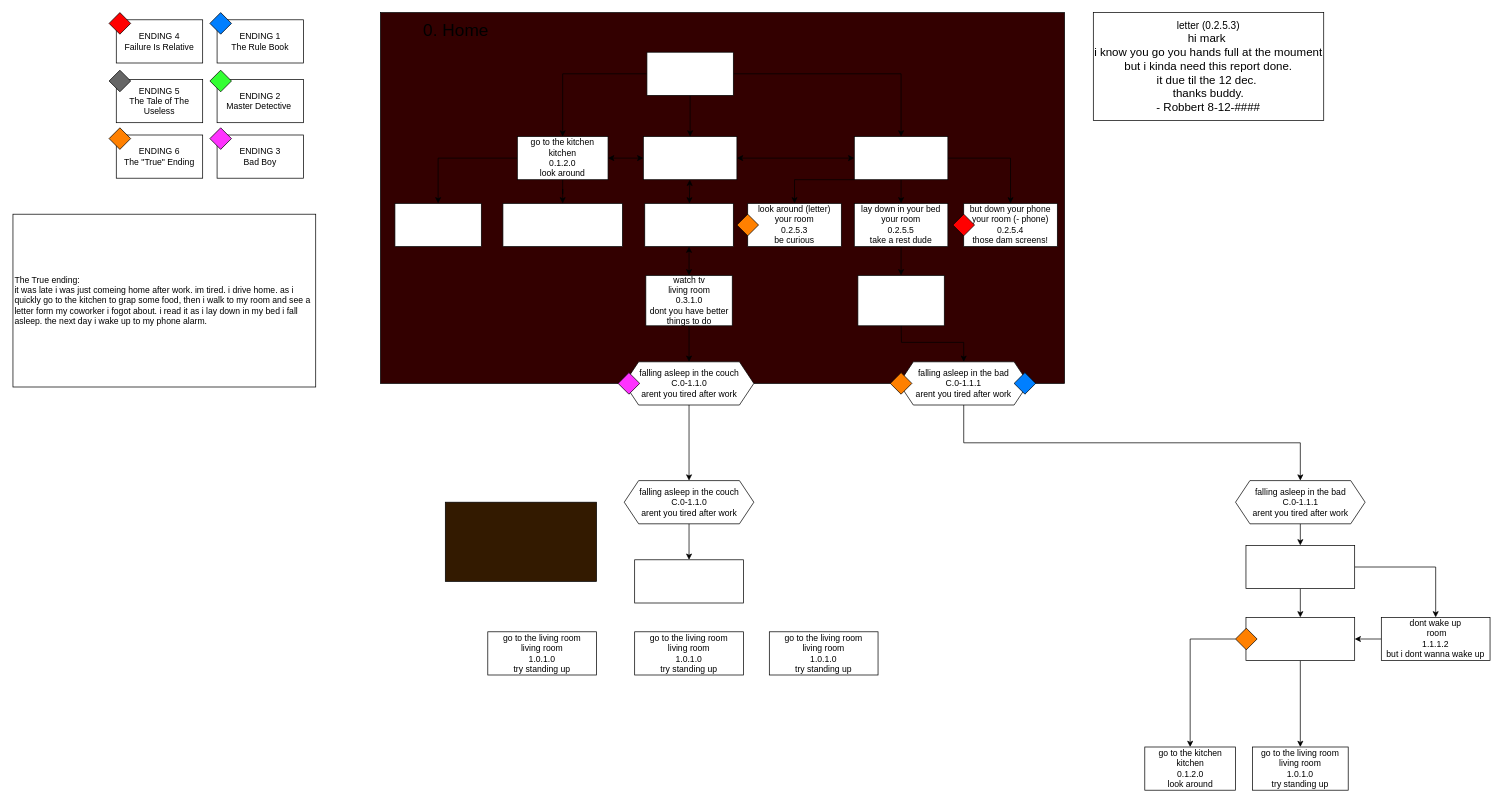
The diagram is 1503 pixels wide and 803 high, and some of its shapes have lost their labels. Each missing label, with the box of its shape:
1. The Office: (445, 501, 597, 581)
continue Home 0.0.0.0 try starting the game!: (646, 51, 733, 95)
do to sleep living room 0.3.1.1 arent you tired: (857, 275, 944, 326)
get up of the couch living room 1.0.1.0 try finding a diffrent to sleep: (634, 559, 743, 603)
go to the living room living room 0.1.2.1 look around: (643, 136, 737, 180)
go to your room your room 0.1.2.2 look around: (854, 136, 948, 180)
in bed room 1.0.1.1 arent you tired: (1245, 545, 1355, 589)
look for food (bun) kitchen 0.2.5.0 are you hungry?: (394, 203, 481, 247)
search your kitchen (knife) kitchen 0.2.5.1 looking for something?: (502, 203, 622, 247)
sit down in ther couch living room 0.2.5.2 maybe take a rest?: (644, 203, 733, 247)
wake up from your alarm room 1.1.1.1 wakey wakey: (1245, 617, 1355, 661)
